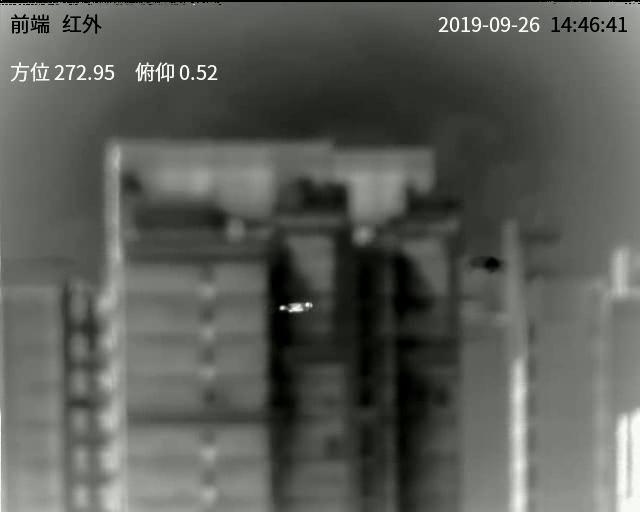DRONE: (279, 300, 314, 316)
